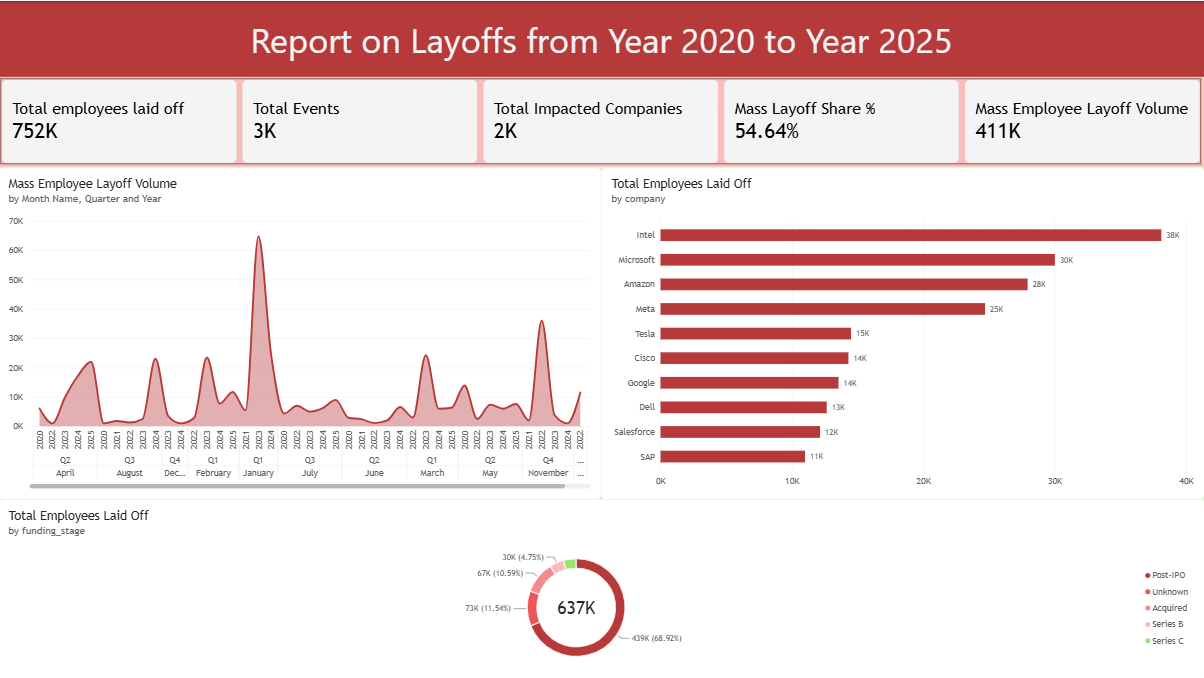

This screenshot's page, from the dashboard's own definition file:
{"tool":"powerbi","page":{"name":"Layoff Overview","canvas":[1920,1080],"ordinal":0},"visuals":[{"type":"cardVisual","fields":{"Data":["Sum(Layoffs_data_events.laid_off_count)","Measures Table.Total Events","Measures Table.Total Impacted Companies","Measures Table.Mass Layoff Share %","Measures Table.Mass Employee Layoff Volume"]},"box":[0,120,1920,144],"z":1},{"type":"shape","box":[0,0,1920,120],"z":2},{"type":"stackedAreaChart","fields":{"Category":["Date Table.Month Name","Date Table.Quarter","Date Table.Year"],"Y":["Measures Table.Mass Employee Layoff Volume"]},"box":[0,264,960,528],"z":3},{"type":"clusteredBarChart","fields":{"Category":["Fact_Layoffs_data_events.company"],"Y":["Measures Table.Total Employees Laid Off"]},"box":[960,264,960,528],"z":4},{"type":"donutChart","fields":{"Category":["Fact_Layoffs_data_events.funding_stage"],"Y":["Measures Table.Total Employees Laid Off"]},"box":[0,792,1920,288],"z":5}]}

Visuals, with their boxes in screenshot pixels (x1, y1, x2, y2), scaled from the page's 1920x1080 canvas onto the 1204x678 screenshot:
cardVisual - Sum(Layoffs_data_events.laid_off_count) x Measures Table.Total Events: 0:75:1203:166
shape: 0:0:1203:75
stackedAreaChart - Date Table.Month Name x Date Table.Quarter: 0:166:602:497
clusteredBarChart - Fact_Layoffs_data_events.company x Measures Table.Total Employees Laid Off: 602:166:1203:497
donutChart - Fact_Layoffs_data_events.funding_stage x Measures Table.Total Employees Laid Off: 0:497:1203:677
